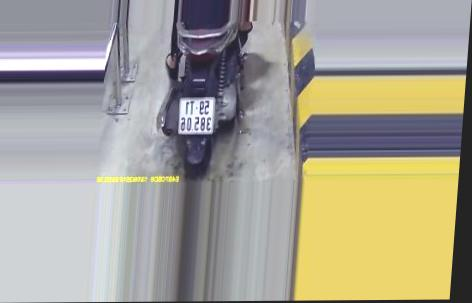License_Plate: (177, 93, 219, 138)
